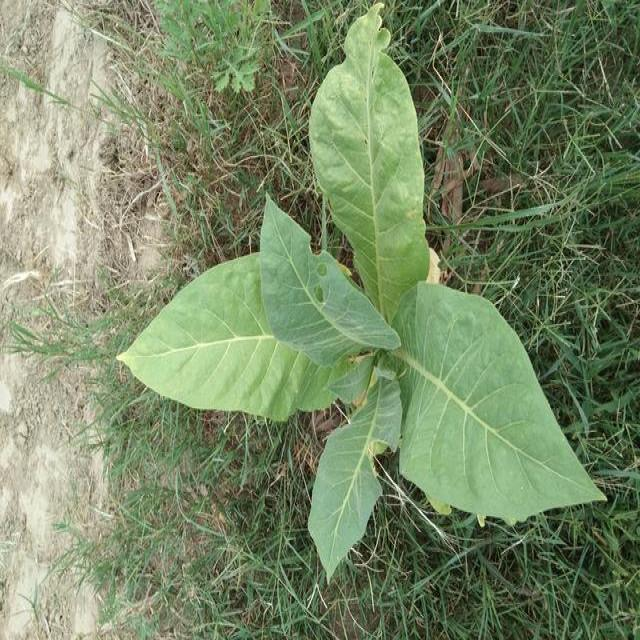crop: (116, 13, 604, 596)
